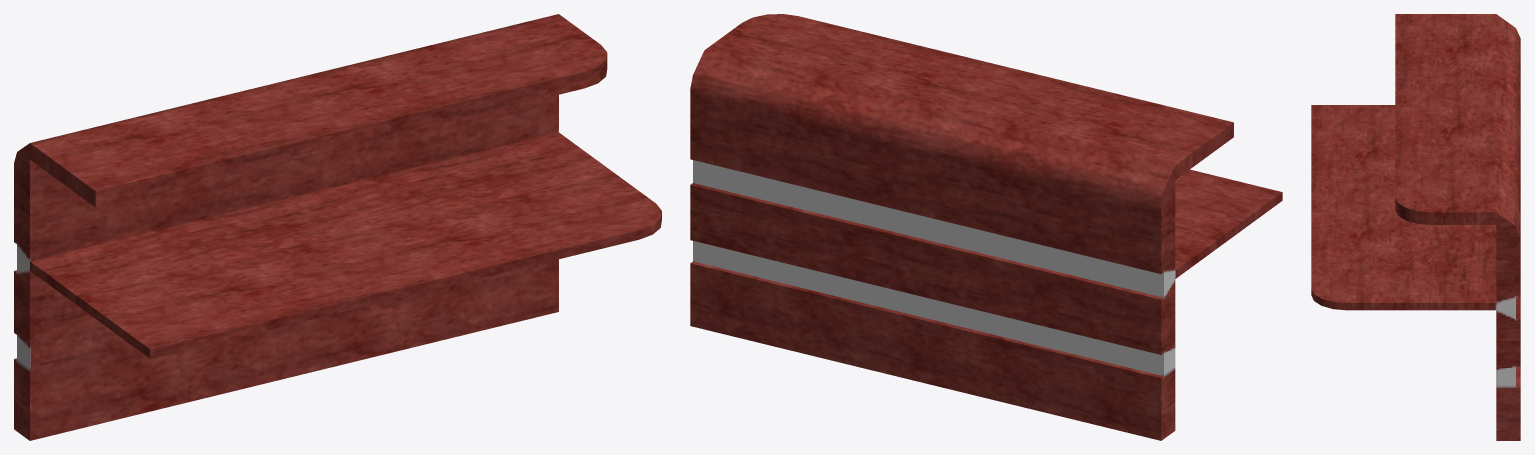
The model's file is ReceptionDesk_Straight_End_Right.glb.
3 renders of one model, left to right at view 1: azimuth 30°, elevation 25°; view 2: azimuth 150°, elevation 25°; view 3: azimuth 270°, elevation 25°, orthographic. The views are drawn at different scales.
Visible parts, largest first — view 1: RightStraghtEnd; view 2: RightStraghtEnd; view 3: RightStraghtEnd.
Part boxes in pixels (x1=…): RightStraghtEnd: x1=14, y1=14, x2=661, y2=440; RightStraghtEnd: x1=690, y1=14, x2=1282, y2=440; RightStraghtEnd: x1=1311, y1=14, x2=1520, y2=440.
Bounding box in the file's own units: 2 × 1.08 × 0.8926.
Materials: 1 (1 with a texture image).
